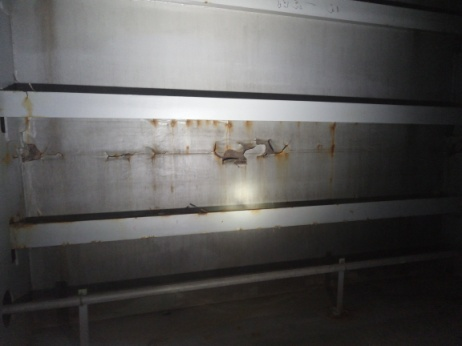corrosion: (216, 136, 287, 174), (92, 147, 139, 166), (148, 119, 230, 129), (323, 120, 347, 154), (14, 137, 45, 160), (20, 91, 41, 116), (144, 141, 165, 164)
